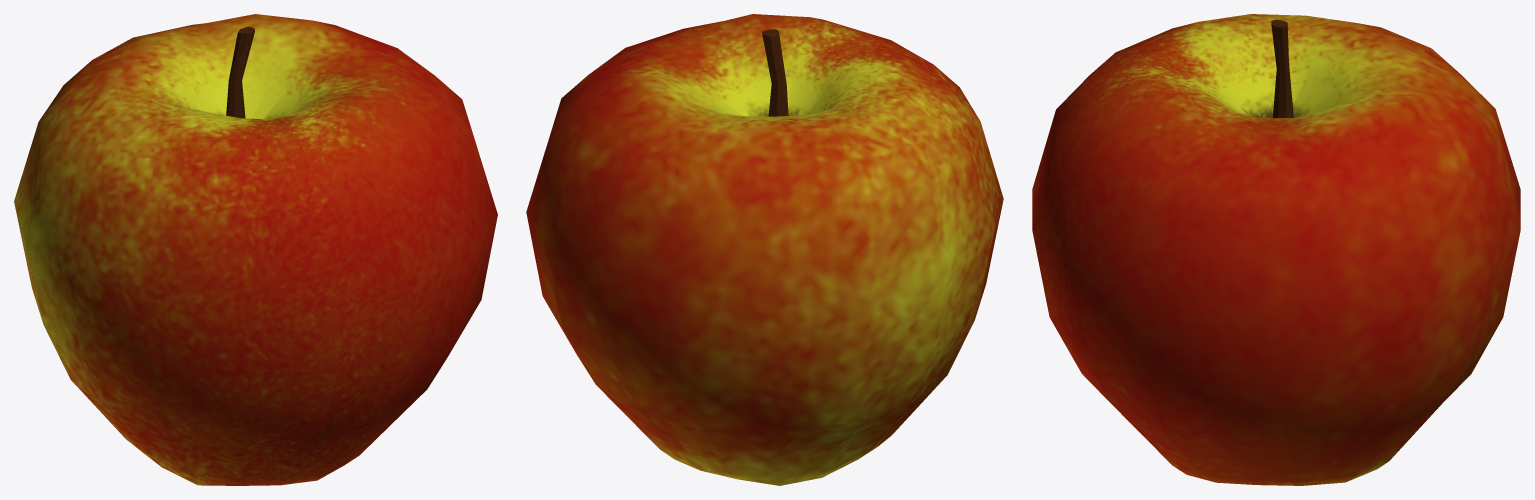
The model's file is Apple.fbx.
The picture shows the model from 3 angles, left to right: view 1: azimuth 30°, elevation 25°; view 2: azimuth 150°, elevation 25°; view 3: azimuth 270°, elevation 25°; orthographic projection. The views are drawn at different scales.
Parts seen in each view (by area): view 1: Apple_LOD0; view 2: Apple_LOD0; view 3: Apple_LOD0.
Part boxes in pixels (left/top/right/bottom): Apple_LOD0: left=14, top=14, right=497, bottom=485; Apple_LOD0: left=526, top=14, right=1003, bottom=485; Apple_LOD0: left=1032, top=14, right=1520, bottom=485.
Size of what is drawn, in the model's own units: 6.79 by 6.62 by 6.79.
